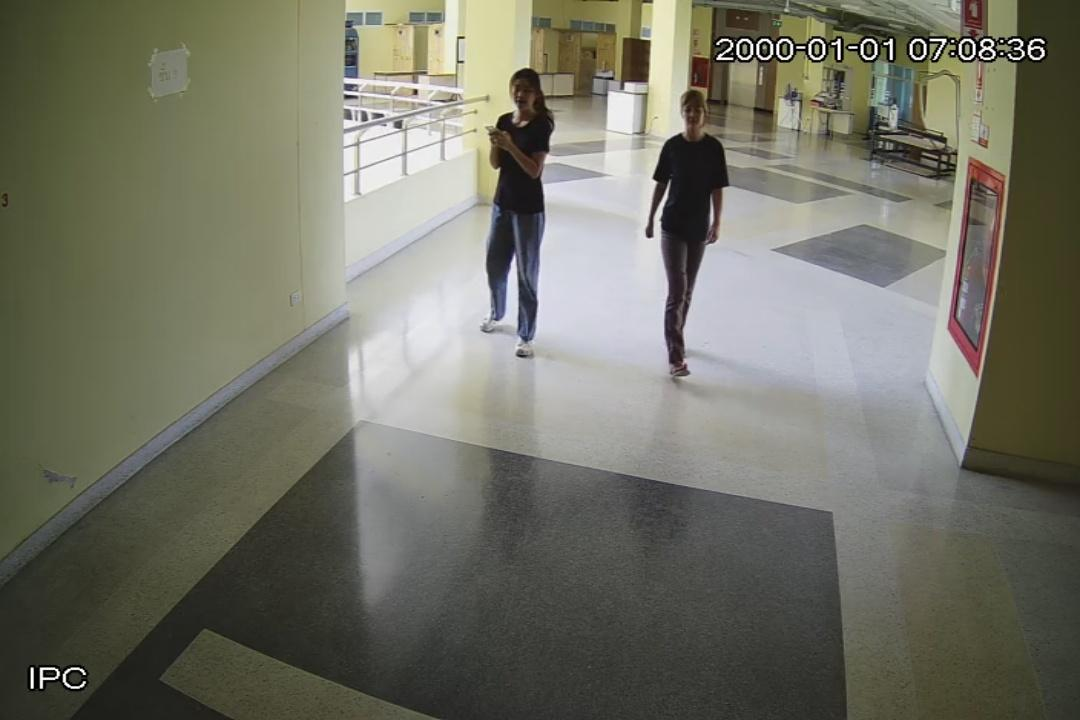normal: (642, 82, 728, 386), (476, 62, 560, 366)
